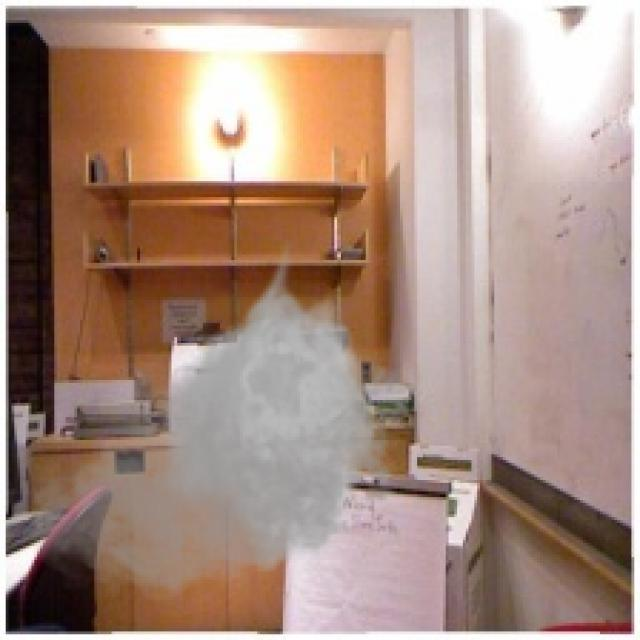smoke: (20, 237, 423, 612)
